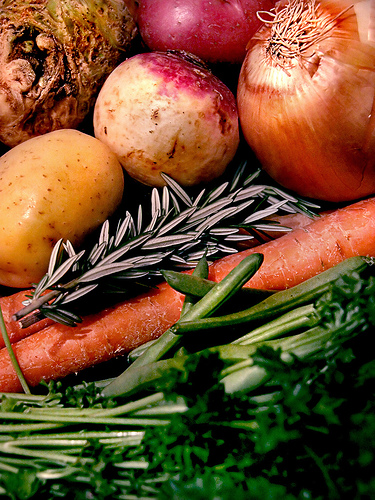turnip: (93, 50, 236, 182)
